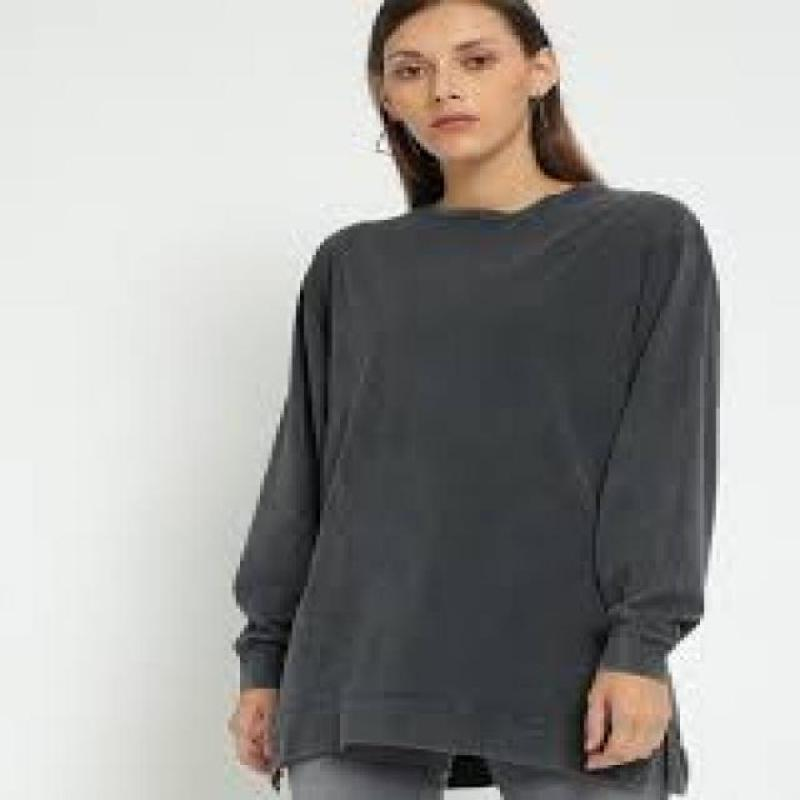sweater: (229, 180, 722, 795)
